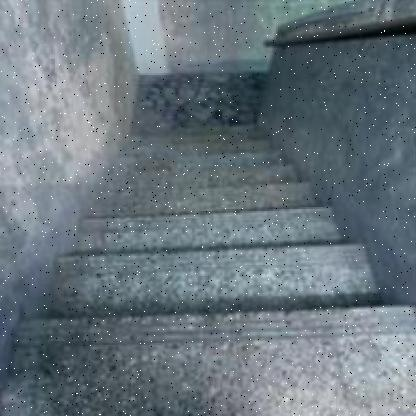stair_down: (19, 218, 392, 350)
